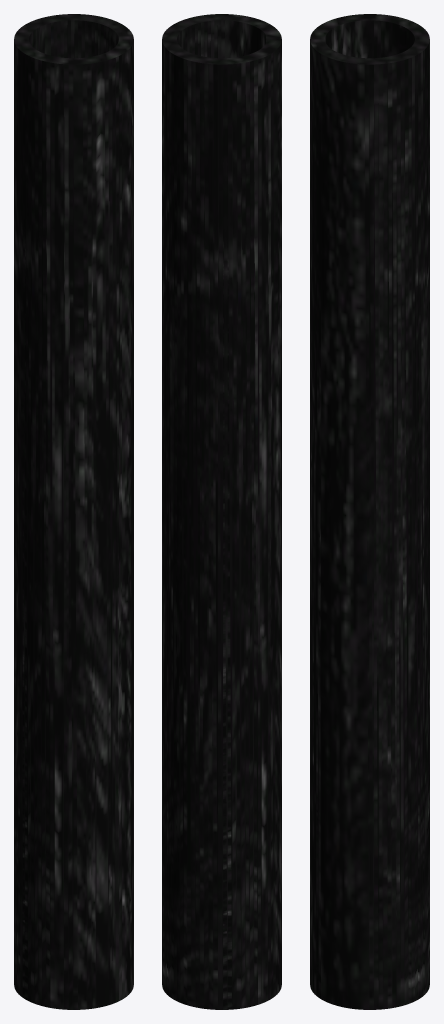
The model's file is Pole.fbx.
3 renders of one model, left to right at view 1: azimuth 90°, elevation 25°; view 2: azimuth 150°, elevation 25°; view 3: azimuth 270°, elevation 25°, orthographic.
Visible parts, largest first — view 1: root; view 2: root; view 3: root.
Boxes of the visible parts, left/top/right/bottom form: root: left=14, top=14, right=133, bottom=1009; root: left=162, top=14, right=281, bottom=1009; root: left=310, top=14, right=429, bottom=1009.
Bounding box in the file's own units: 0.0309 × 0.2695 × 0.0309.
1 material, 1 textured.
